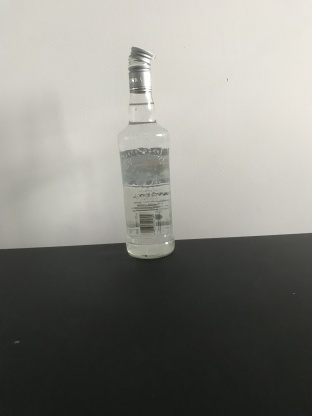nakretka: (126, 44, 154, 94)
